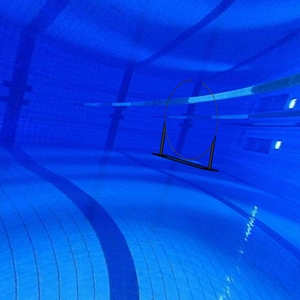circle: (151, 77, 222, 175)
